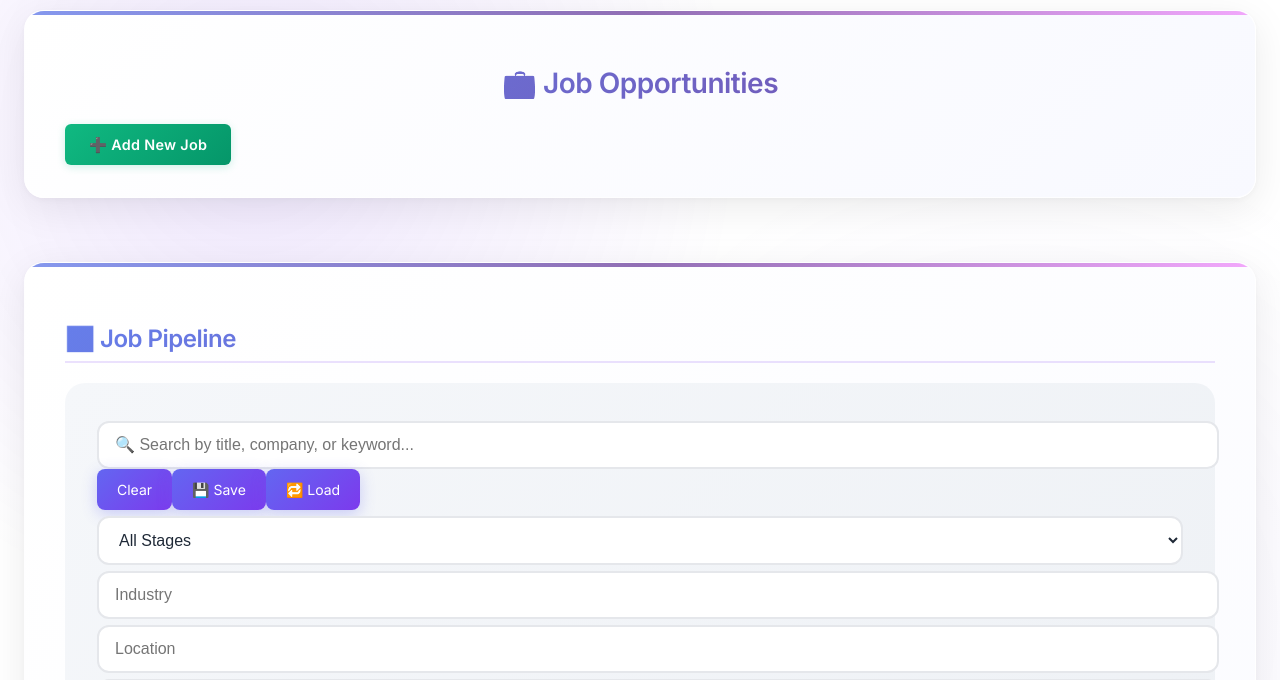
Test: JobsTab › shows Add button after form is closed
Step 1. Click the button "➕ Add New Job" → point(148, 145), box [65,124,231,165]
(page scrolled)
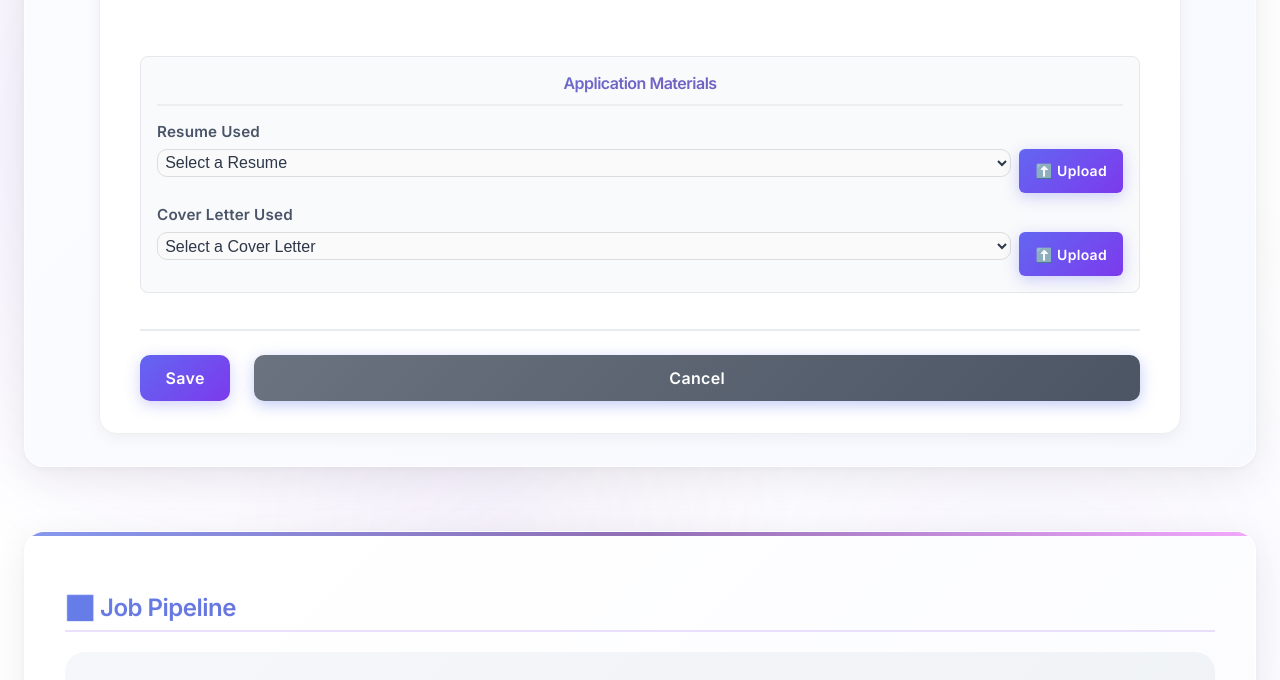
Step 2. Click the button "Cancel" → point(697, 378), box [254,355,1140,401]
(page scrolled)
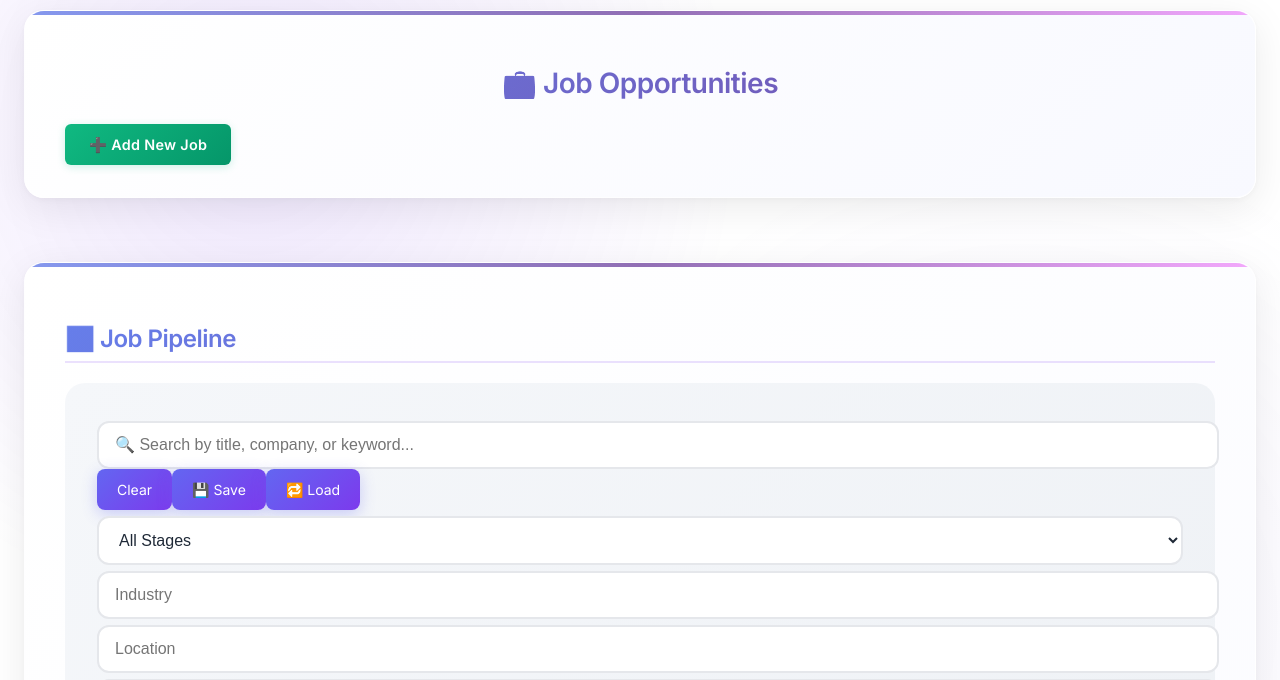
Expected: the button "➕ Add New Job" is shown, [65,124,231,165]
